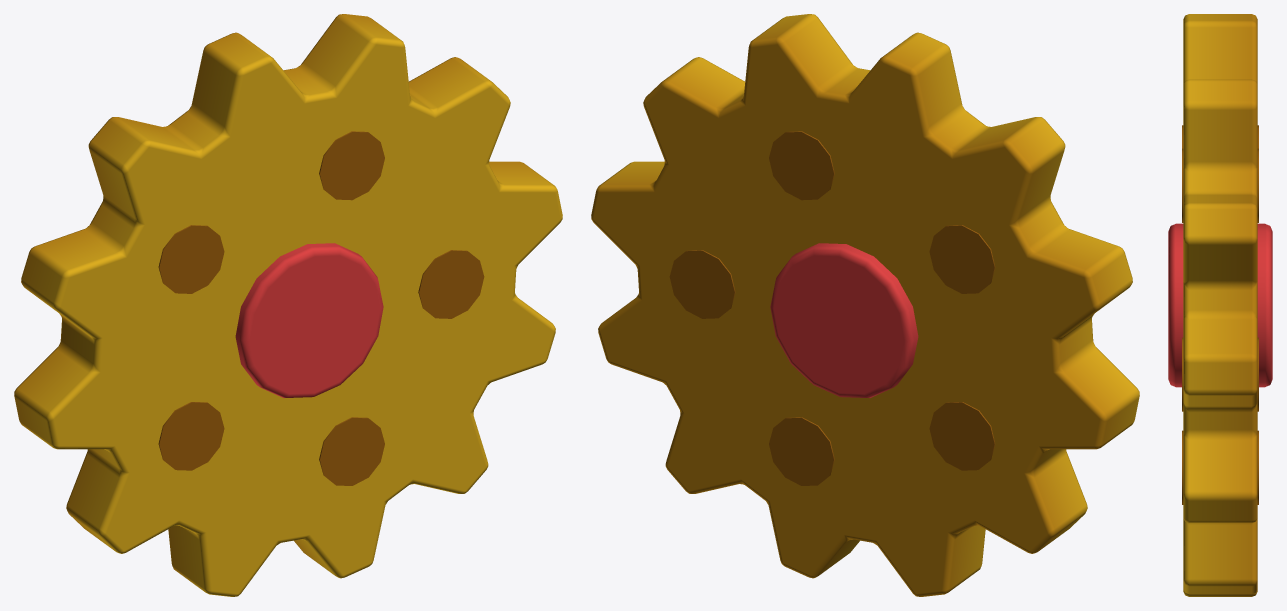
The model's file is ENV_Gear.glb.
3 renders of one model, left to right at view 1: azimuth 30°, elevation 25°; view 2: azimuth 150°, elevation 25°; view 3: azimuth 270°, elevation 25°, orthographic.
Visible parts, largest first — view 1: GearBody; view 2: GearBody; view 3: GearBody.
Part boxes in pixels (box(x1,y1,x2,y2)): GearBody: box(14, 14, 562, 596); GearBody: box(591, 14, 1139, 596); GearBody: box(1168, 14, 1272, 596).
Bounding box in the file's own units: 3.95 × 3.95 × 0.7.
